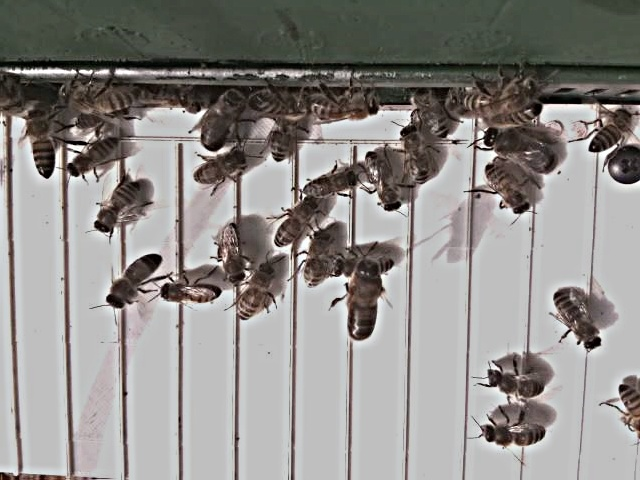Drone: (481, 125, 558, 177), (343, 254, 384, 347), (198, 82, 244, 157)
Worker: (104, 251, 163, 313), (549, 288, 601, 355), (91, 178, 142, 238), (481, 357, 543, 404), (482, 164, 530, 220), (270, 192, 316, 249), (64, 134, 122, 179), (232, 265, 275, 325), (362, 149, 402, 213), (478, 416, 546, 453), (25, 107, 56, 185), (586, 105, 630, 159), (190, 151, 250, 189), (213, 220, 246, 285), (398, 124, 431, 188), (301, 225, 332, 291), (299, 167, 358, 199), (157, 280, 219, 307), (266, 114, 294, 168)
